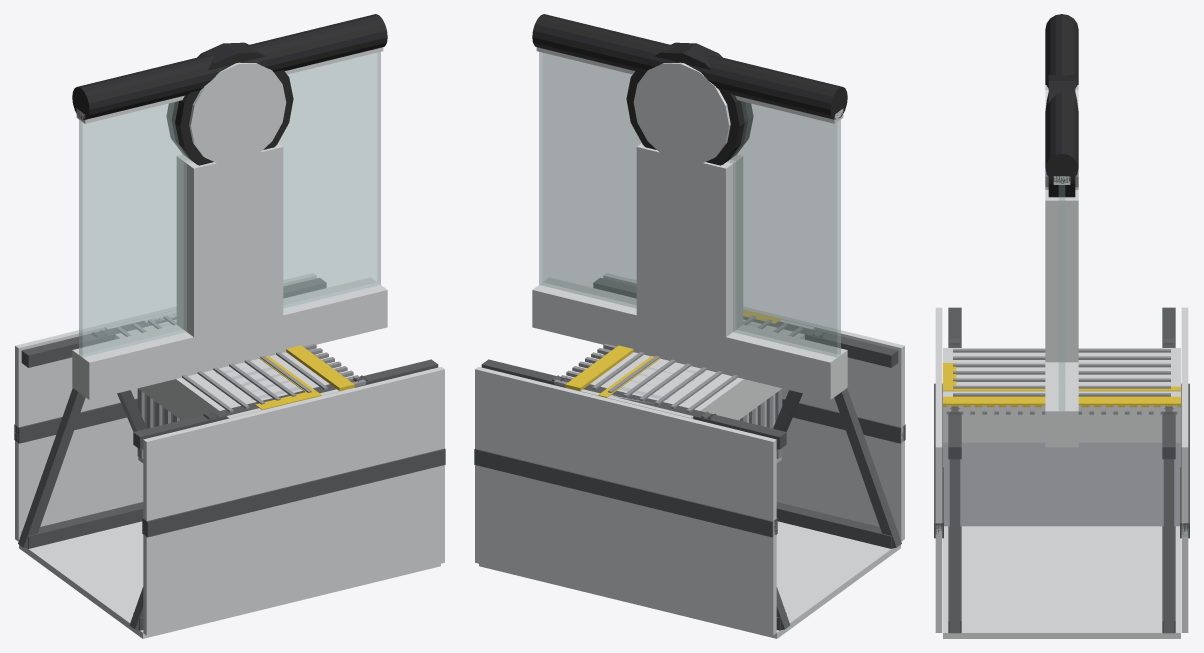
The model's file is escalator.glb.
3 renders of one model, left to right at view 1: azimuth 30°, elevation 25°; view 2: azimuth 150°, elevation 25°; view 3: azimuth 270°, elevation 25°, orthographic. The views are drawn at different scales.
Visible parts, largest first — view 1: Truss, Balustrade, Newel, Landing, Step; view 2: Truss, Balustrade, Newel, Landing, Step; view 3: Truss, Step, Landing, Balustrade, Newel.
Part boxes in pixels (<box>): Truss: <box>14,273,445,638</box>; Balustrade: <box>72,14,387,399</box>; Newel: <box>166,42,293,371</box>; Landing: <box>105,310,365,420</box>; Step: <box>137,313,321,462</box>; Truss: <box>474,273,905,638</box>; Balustrade: <box>532,14,847,399</box>; Newel: <box>626,42,753,373</box>; Landing: <box>554,316,814,420</box>; Step: <box>598,309,782,462</box>; Truss: <box>934,307,1189,638</box>; Step: <box>943,363,1180,526</box>; Landing: <box>943,348,1180,442</box>; Balustrade: <box>1045,14,1078,447</box>; Newel: <box>1045,75,1078,362</box>.
Bounding box in the file's own units: 1.03 × 1.63 × 0.774.
